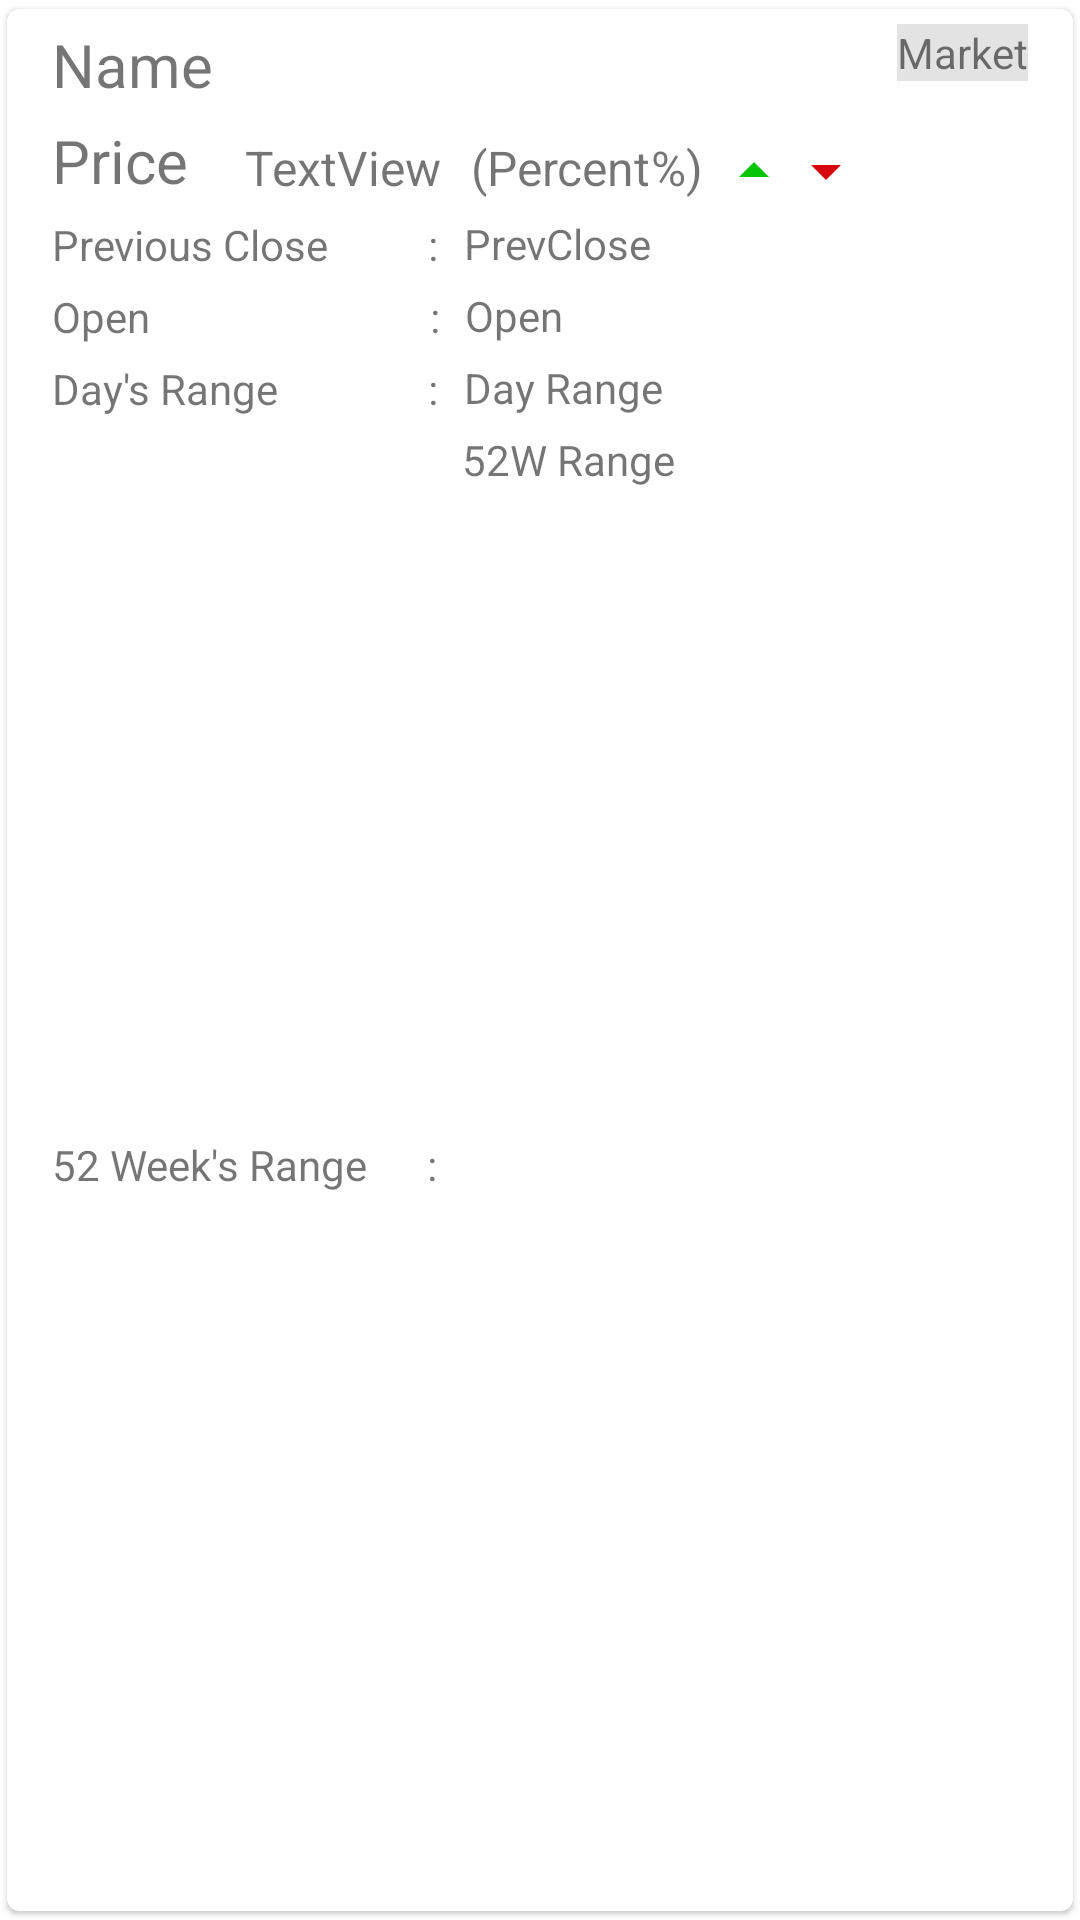

Named icons in this screenshot (1080 x 1920) and their bounding boxes, (x1, y1, x2, y2):
arrow drop down: (811, 165, 841, 180)
arrow drop up: (739, 162, 769, 177)
